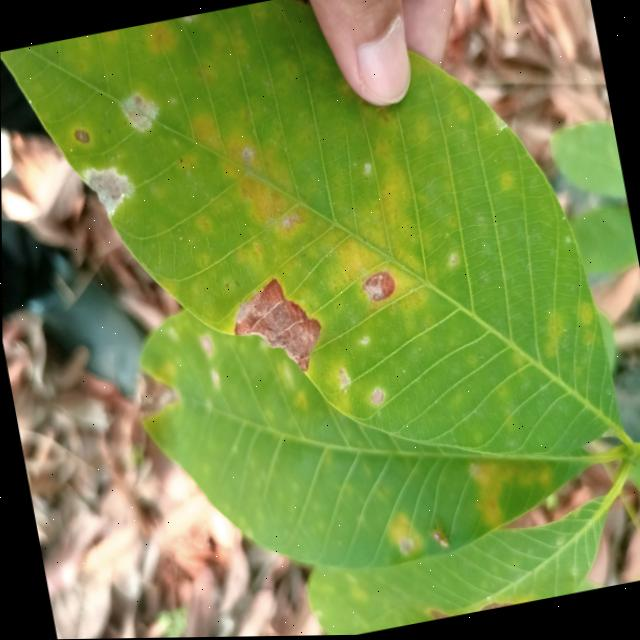Leaf-Blight: (223, 272, 327, 383), (358, 270, 397, 305)
